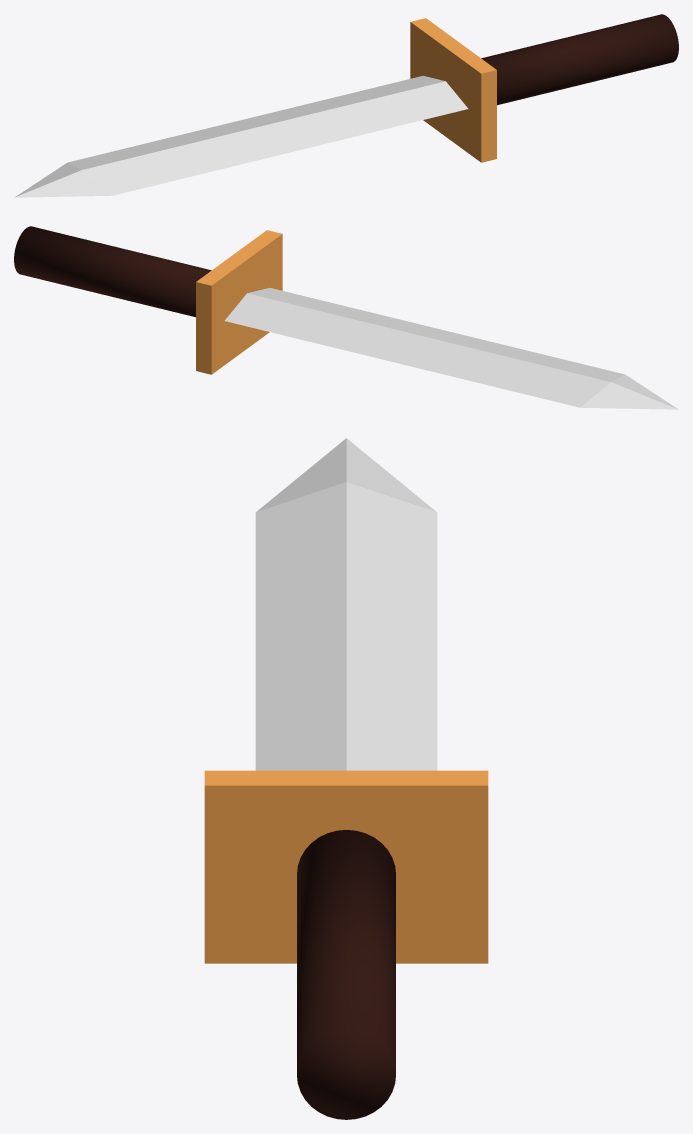
File: low poly sword.fbx
3 views of the same model, one above another, from view 1: azimuth 30°, elevation 25°; view 2: azimuth 150°, elevation 25°; view 3: azimuth 270°, elevation 25° (orthographic). The views are drawn at different scales.
Parts seen in each view (by area): view 1: Sword; view 2: Sword; view 3: Sword.
Part boxes in pixels (x1,y1,x2,y2): Sword: (14, 14, 678, 197); Sword: (14, 226, 678, 409); Sword: (204, 438, 488, 1119).
Size of the model in its own units: 367 by 47.82 by 69.11.
